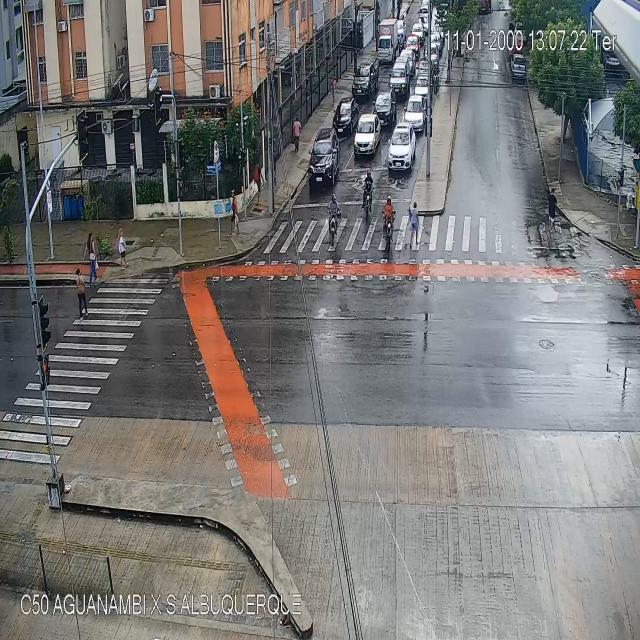Car: (307, 128, 339, 191), (387, 122, 415, 173), (353, 112, 380, 156), (333, 97, 358, 135), (352, 62, 378, 97), (372, 90, 396, 126), (388, 55, 410, 94), (404, 94, 426, 132), (510, 54, 526, 79), (414, 76, 429, 101), (417, 57, 433, 76), (406, 34, 420, 55), (424, 43, 438, 64), (411, 23, 424, 40), (418, 9, 428, 27), (396, 19, 406, 36)
Motorcycle: (382, 195, 395, 256), (326, 193, 340, 245), (361, 171, 373, 221), (433, 62, 439, 95)
Truck: (377, 17, 397, 62)
